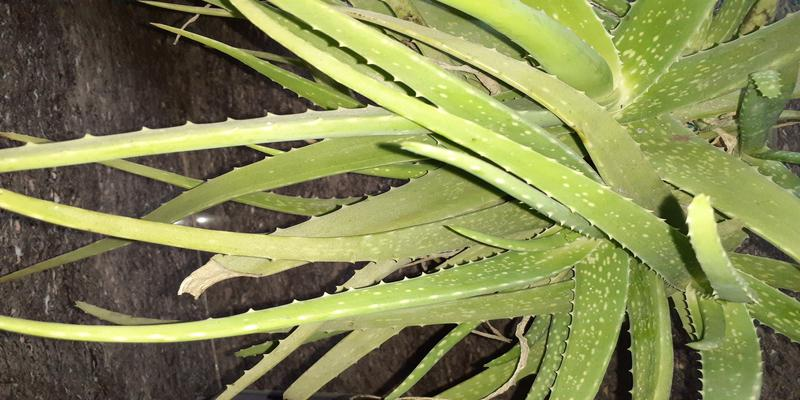Aloevera: (201, 25, 782, 372)
